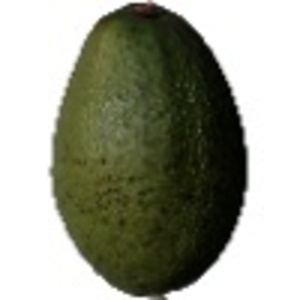abacate: (46, 1, 249, 292)
